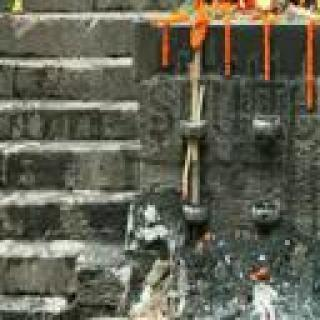fire: (250, 0, 320, 22)
